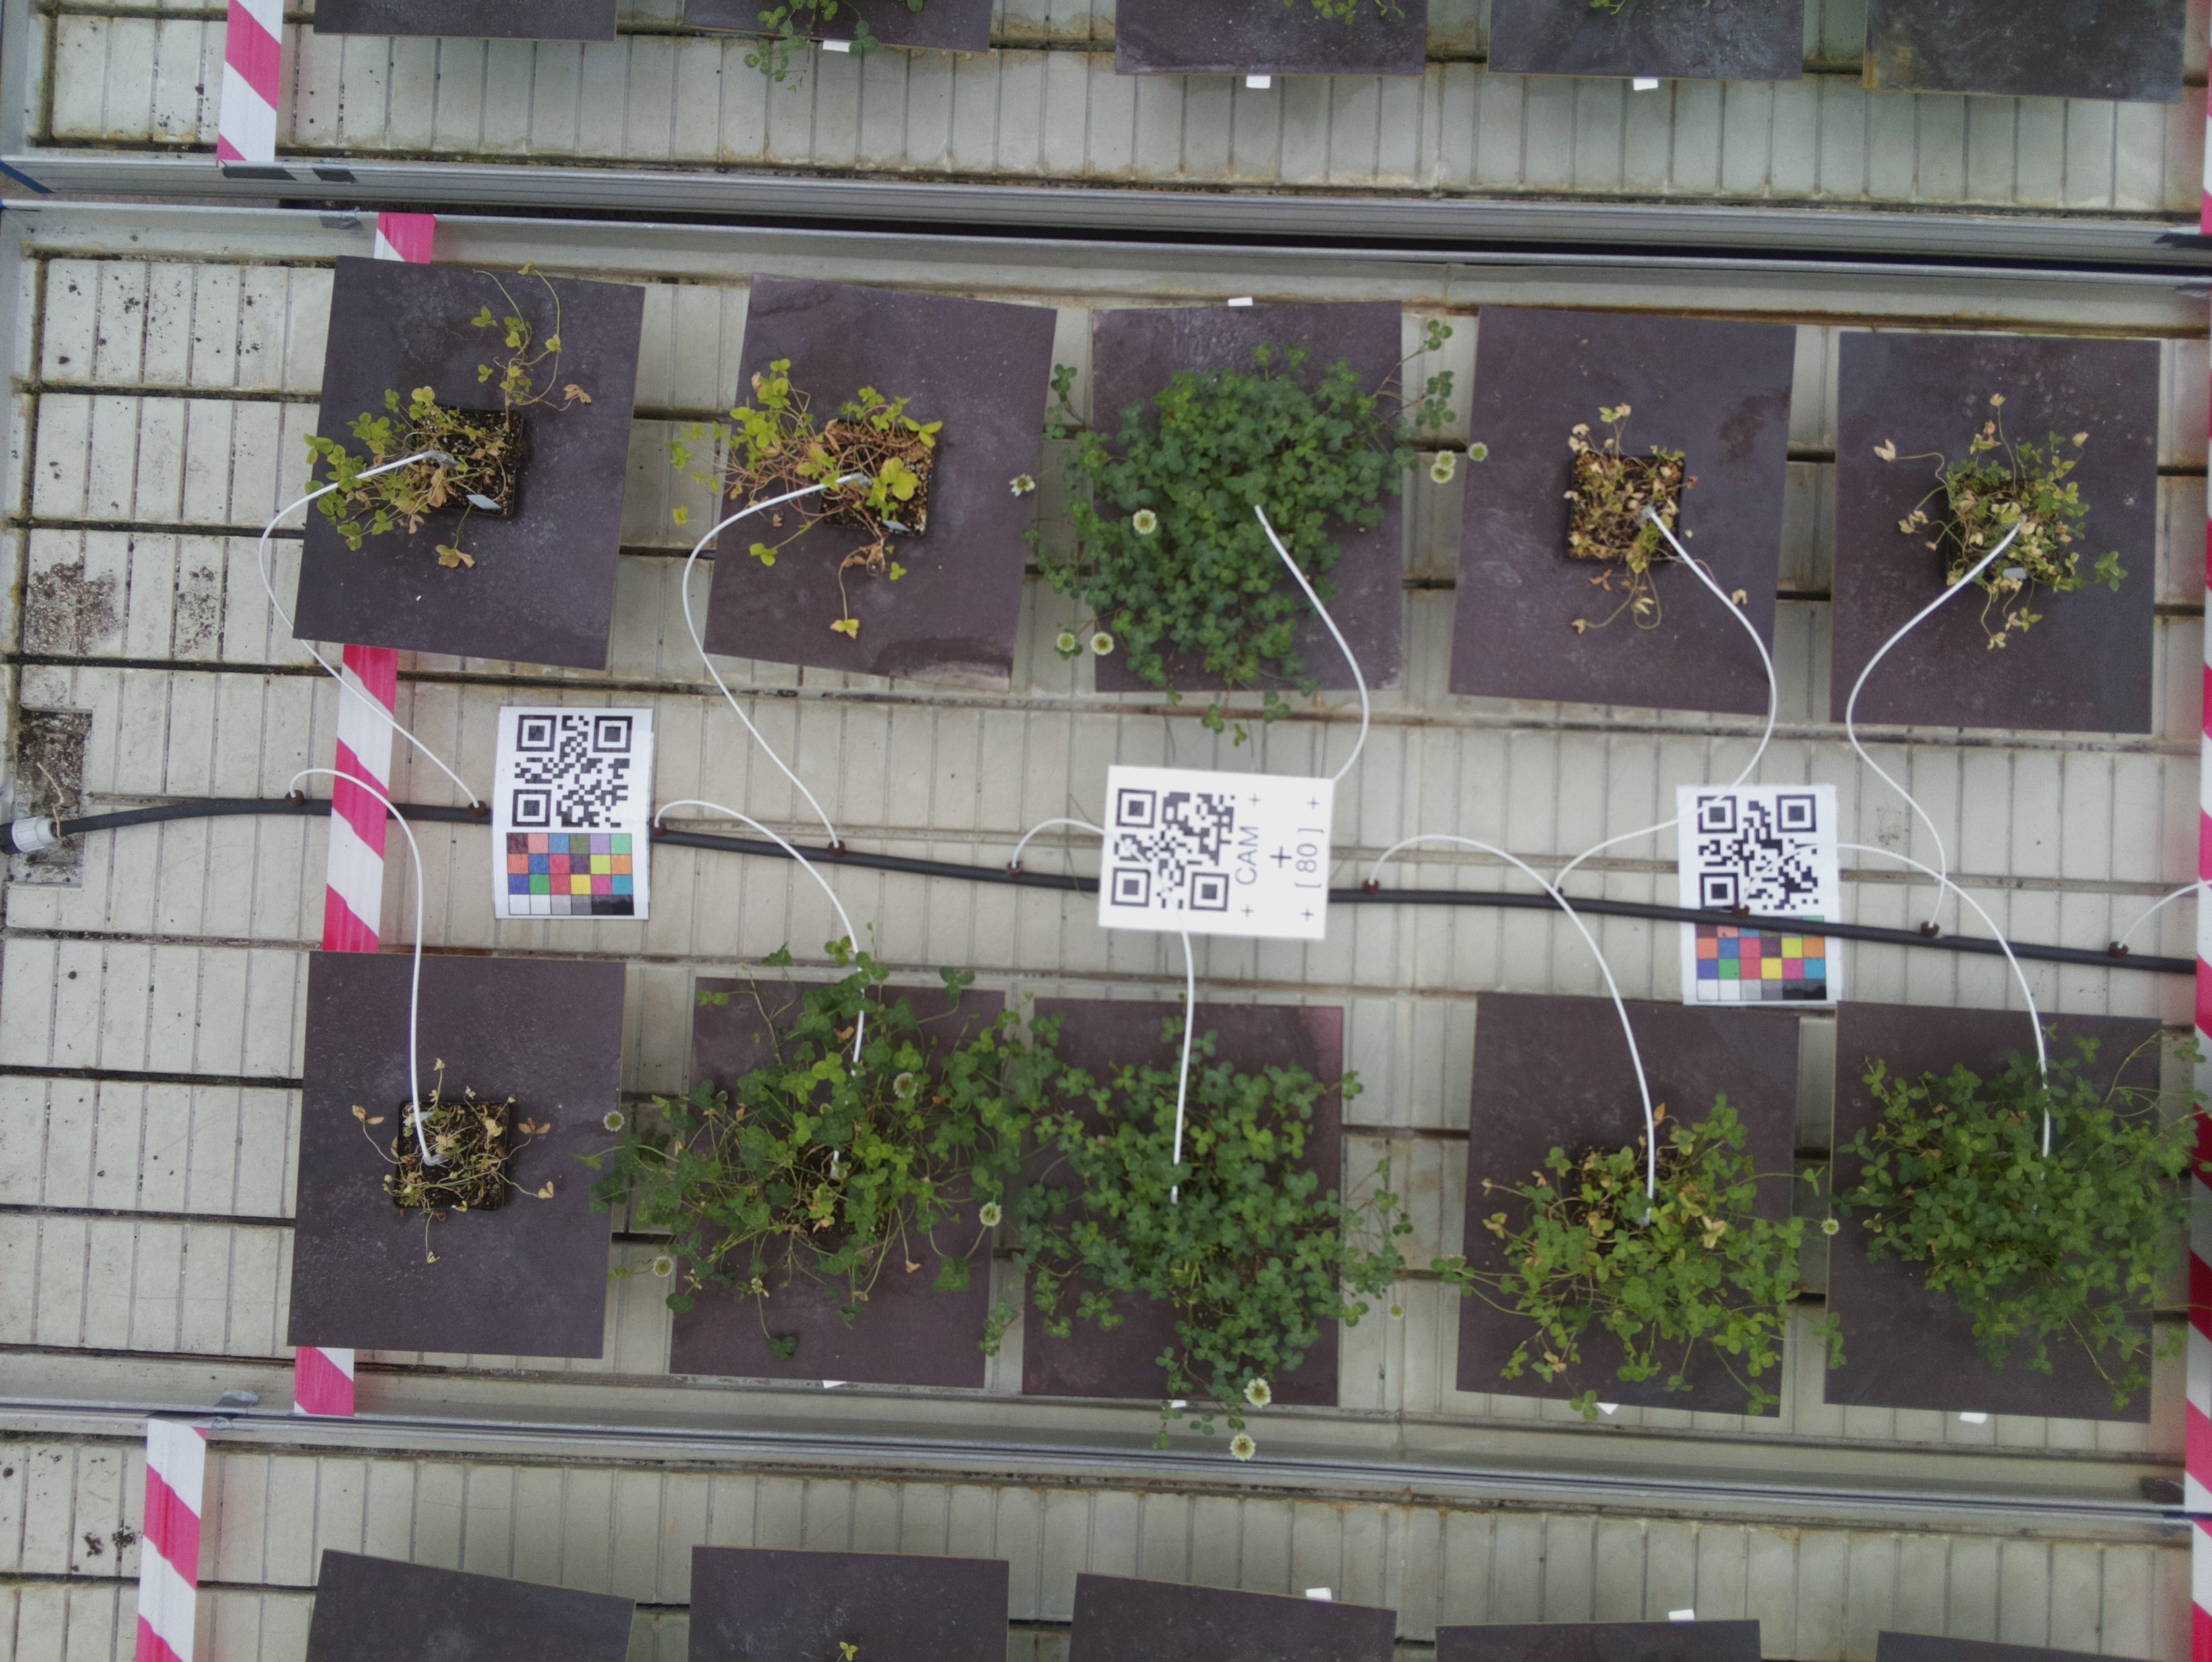POT: (1833, 1000, 2160, 1425), (1458, 1000, 1812, 1390), (1451, 311, 1809, 691), (293, 276, 644, 663), (684, 971, 999, 1388), (1028, 995, 1343, 1407), (302, 946, 611, 1362), (1835, 332, 2154, 730), (704, 288, 1058, 644), (1088, 306, 1404, 693)
QRCODE: (1100, 763, 1329, 937)
QRCOLOR: (1676, 789, 1838, 1006), (492, 707, 655, 918)
